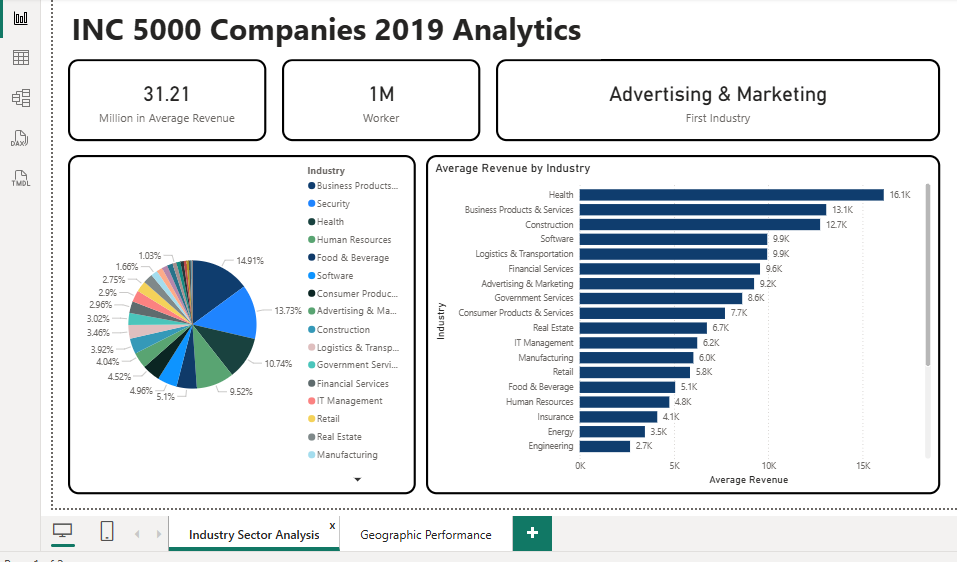

The page's visual inventory and layout, read from the dashboard file:
{"tool":"powerbi","page":{"name":"Industry Sector Analysis","canvas":[1280,720],"ordinal":0},"visuals":[{"type":"card","fields":{"Values":["Avg(INC 5000 Companies 2019 sql ready.Revenue in millions)"]},"box":[21.2,86.1,279.5,115.8],"z":0},{"type":"card","fields":{"Values":["Sum(INC 5000 Companies 2019 sql ready.Workers)"]},"box":[323.3,86.1,279.5,115.8],"z":1000},{"type":"card","fields":{"Values":["Min(INC 5000 Companies 2019 sql ready.Industry)"]},"box":[625.4,86.1,626.8,115.8],"z":2000},{"type":"clusteredBarChart","fields":{"Y":["Sum(INC 5000 Companies 2019 sql ready.Revenue in millions)"],"Category":["INC 5000 Companies 2019 sql ready.Industry"]},"box":[526.6,221.6,725.6,478.6],"z":3000},{"type":"pieChart","fields":{"Category":["INC 5000 Companies 2019 sql ready.Industry"],"Y":["Sum(INC 5000 Companies 2019 sql ready.Workers)"]},"box":[21.2,221.6,491.3,478.6],"z":4000},{"type":"textbox","box":[21.2,8.5,752.5,77.6],"z":5000}]}

Visuals, with their boxes in screenshot pixels (x1, y1, x2, y2):
card - Avg(INC 5000 Companies 2019 sql ready.Revenue in millions): {"x1": 65, "y1": 56, "x2": 264, "y2": 139}
card - Sum(INC 5000 Companies 2019 sql ready.Workers): {"x1": 280, "y1": 56, "x2": 479, "y2": 139}
card - Min(INC 5000 Companies 2019 sql ready.Industry): {"x1": 495, "y1": 56, "x2": 940, "y2": 139}
clusteredBarChart - Sum(INC 5000 Companies 2019 sql ready.Revenue in millions) x INC 5000 Companies 2019 sql ready.Industry: {"x1": 424, "y1": 153, "x2": 940, "y2": 493}
pieChart - INC 5000 Companies 2019 sql ready.Industry x Sum(INC 5000 Companies 2019 sql ready.Workers): {"x1": 65, "y1": 153, "x2": 414, "y2": 493}
textbox: {"x1": 65, "y1": 1, "x2": 600, "y2": 56}
